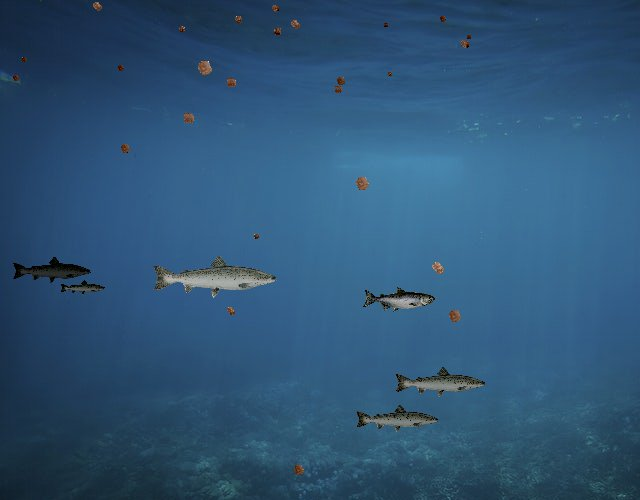Fish: (150, 253, 279, 299), (394, 366, 488, 399), (354, 403, 440, 434), (11, 256, 92, 285), (362, 287, 435, 313), (59, 280, 106, 297)
Pellet: (190, 53, 220, 82), (424, 255, 451, 282), (442, 303, 468, 329), (177, 107, 200, 130), (288, 459, 310, 481), (174, 22, 189, 37), (114, 61, 128, 75), (250, 231, 262, 243)
